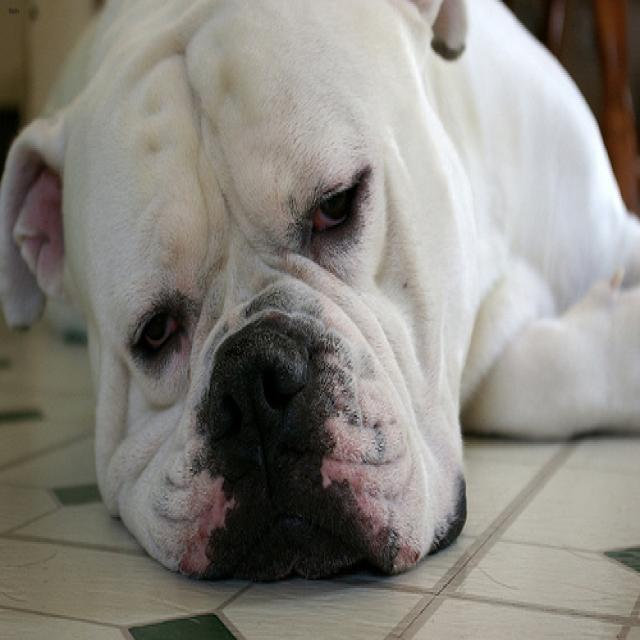dog-american_bulldog: (1, 2, 637, 596)
